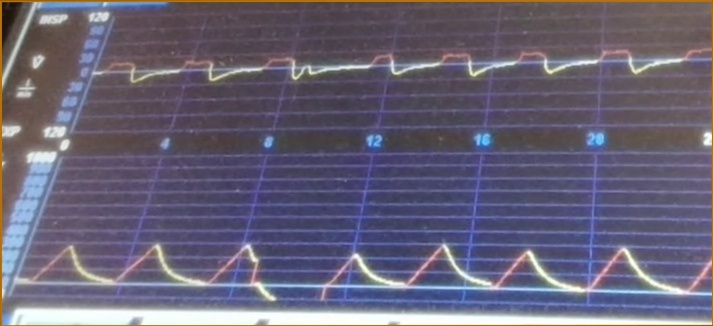Premature_cycling Flow: (102, 22, 710, 114)
Premature_cycling Volume: (27, 220, 711, 302)
